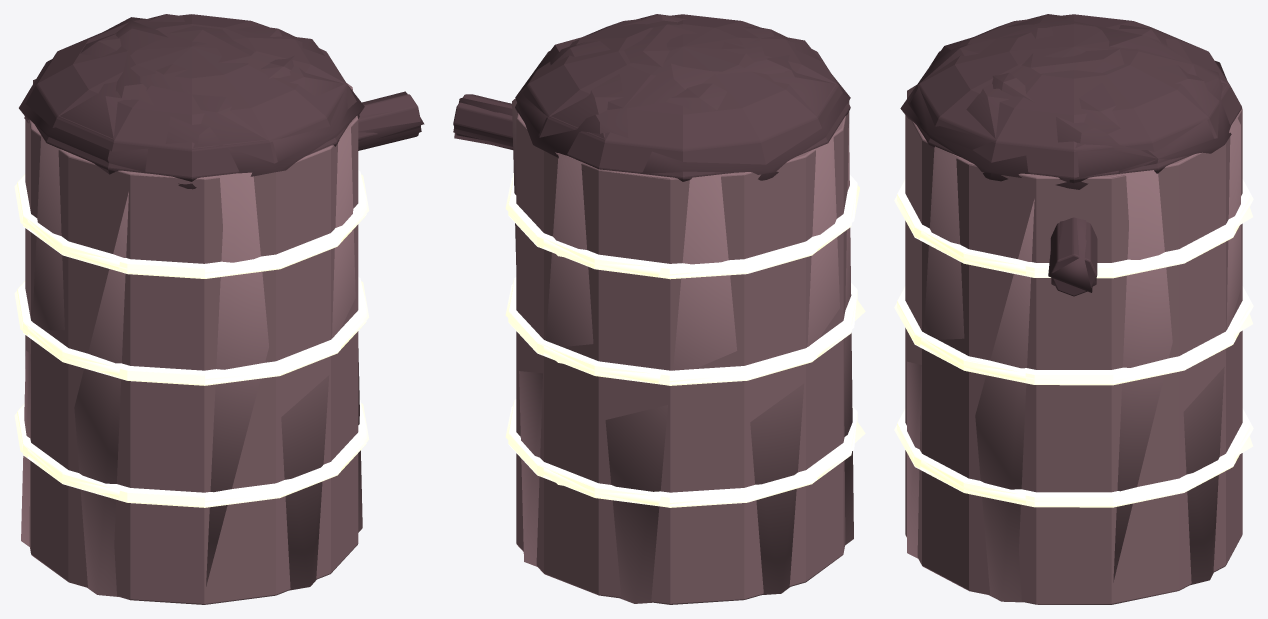
The model's file is SM_Schlachthof_Boiler.fbx.
The picture shows the model from 3 angles, left to right: view 1: azimuth 30°, elevation 25°; view 2: azimuth 150°, elevation 25°; view 3: azimuth 270°, elevation 25°; orthographic projection.
Visible parts, largest first — view 1: LOD0_SM_Schlachthof_Boiler, LOD3_SM_Schlachthof_Boiler, LOD2_SM_Schlachthof_Boiler, LOD1_SM_Schlachthof_Boiler; view 2: LOD0_SM_Schlachthof_Boiler, LOD3_SM_Schlachthof_Boiler, LOD2_SM_Schlachthof_Boiler, LOD1_SM_Schlachthof_Boiler; view 3: LOD0_SM_Schlachthof_Boiler, LOD3_SM_Schlachthof_Boiler, LOD2_SM_Schlachthof_Boiler, LOD1_SM_Schlachthof_Boiler.
Part boxes in pixels (x1=…): LOD0_SM_Schlachthof_Boiler: x1=17, y1=14, x2=420, y2=604; LOD3_SM_Schlachthof_Boiler: x1=14, y1=17, x2=424, y2=596; LOD2_SM_Schlachthof_Boiler: x1=17, y1=14, x2=421, y2=604; LOD1_SM_Schlachthof_Boiler: x1=17, y1=14, x2=417, y2=604; LOD0_SM_Schlachthof_Boiler: x1=453, y1=14, x2=857, y2=604; LOD3_SM_Schlachthof_Boiler: x1=454, y1=15, x2=865, y2=603; LOD2_SM_Schlachthof_Boiler: x1=453, y1=14, x2=857, y2=604; LOD1_SM_Schlachthof_Boiler: x1=454, y1=14, x2=856, y2=604; LOD0_SM_Schlachthof_Boiler: x1=897, y1=14, x2=1250, y2=604; LOD3_SM_Schlachthof_Boiler: x1=894, y1=15, x2=1253, y2=602; LOD2_SM_Schlachthof_Boiler: x1=897, y1=14, x2=1253, y2=604; LOD1_SM_Schlachthof_Boiler: x1=897, y1=21, x2=1250, y2=604.
Bounding box in the file's own units: 2.55 × 3.2 × 2.13.
